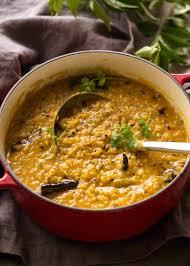Dhal Curry: (12, 72, 172, 204)
